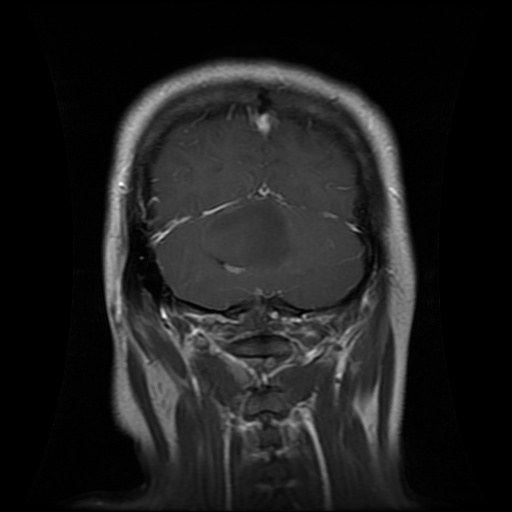glioma: (213, 196, 295, 270)
